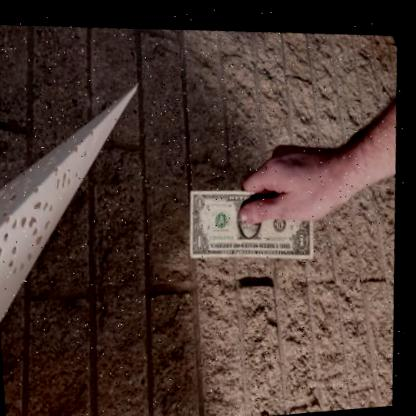dollar_front: (186, 168, 325, 265)
